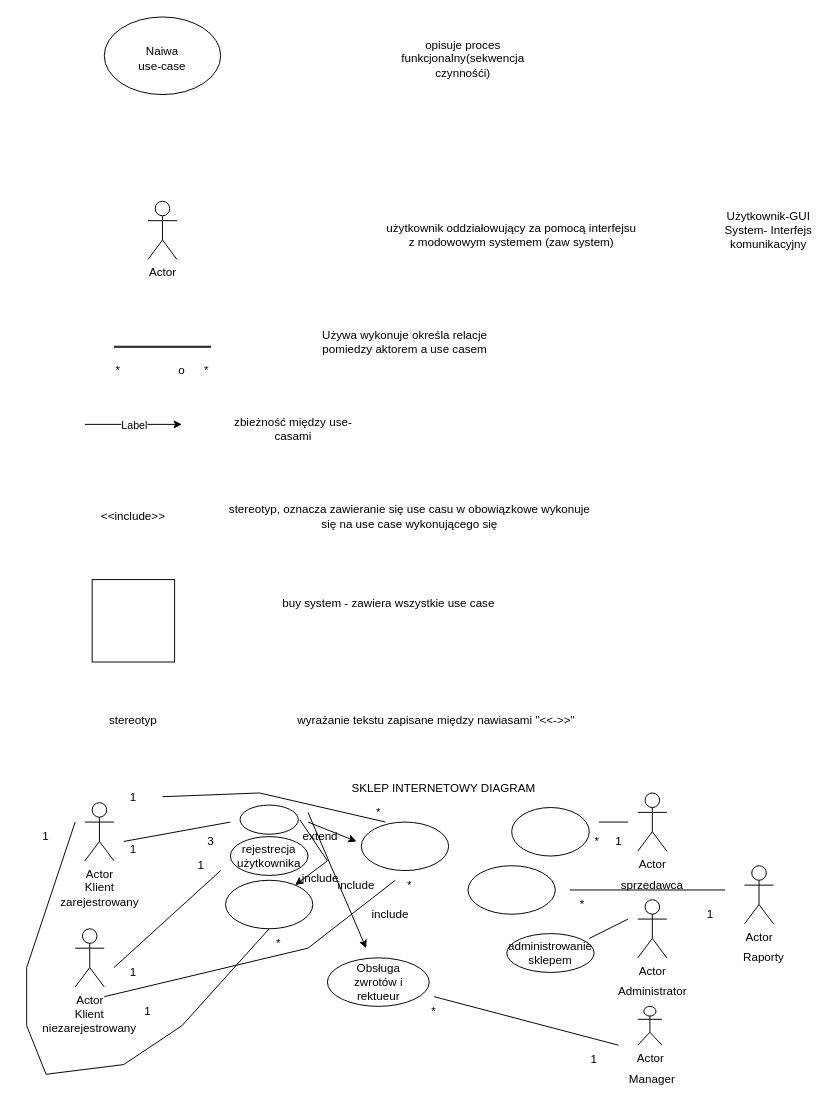
Image size: 838x1111. Some labels were removed from this diagram. The shapes that lost their labels are listed below. From the top down, each one's box as (x1, y1, x2, y2) in pixels, then its label:
(91, 579, 175, 662): Use case system
(239, 804, 298, 834): logowanie
(511, 807, 589, 856): obsługa zamówienia
(360, 821, 449, 871): skłądanie zamówienia
(225, 879, 313, 929): aktualizacja danych osobowych
(467, 865, 555, 914): gram raporty
